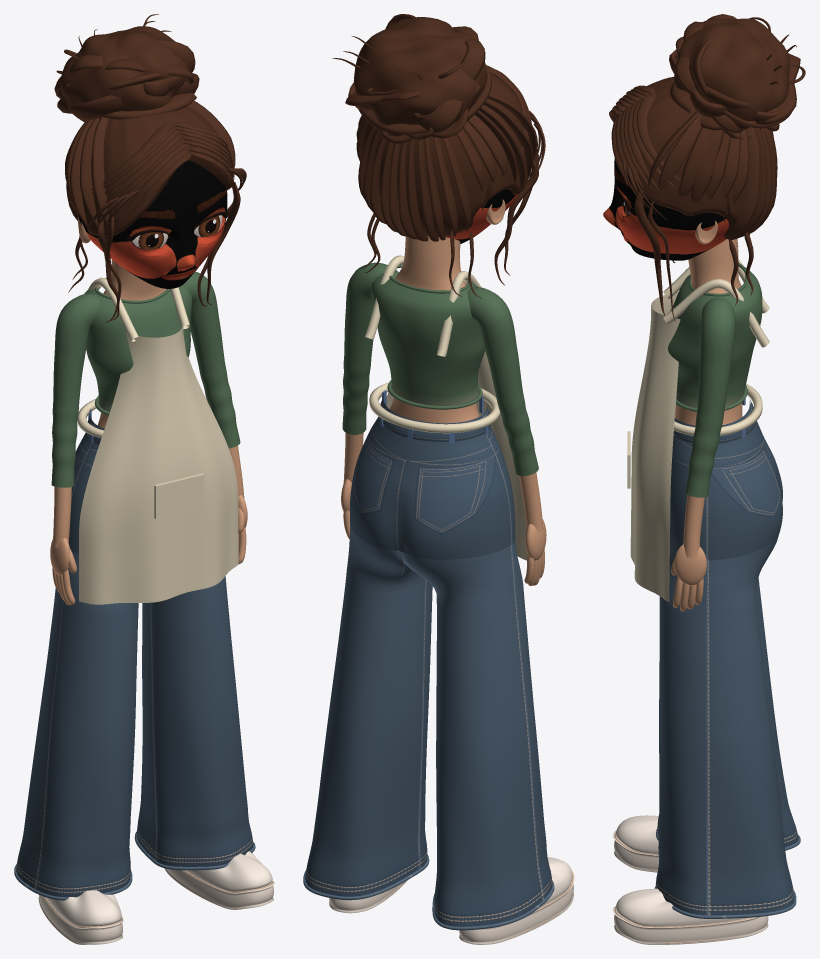
File: mara-before.glb
3 renders of one model, left to right at view 1: azimuth 30°, elevation 25°; view 2: azimuth 150°, elevation 25°; view 3: azimuth 270°, elevation 25°, orthographic. The views are drawn at different scales.
Parts seen in each view (by area): view 1: Mara, Mara fitted apron, Maya hair, Maya face; view 2: Mara, Maya hair, Mara fitted apron, Maya face; view 3: Mara, Maya hair, Mara fitted apron, Maya face.
Boxes of the visible parts, x1,y1,x2,y2 form: Mara: (14,209,274,944); Mara fitted apron: (79,326,238,604); Maya hair: (54,14,246,322); Maya face: (78,160,227,288); Mara: (303,199,574,944); Maya hair: (332,14,545,298); Mara fitted apron: (386,281,527,560); Maya face: (445,189,518,243); Mara: (613,186,800,944); Maya hair: (609,14,805,321); Mara fitted apron: (630,292,680,601); Maya face: (603,158,728,260).
Size of the model in its own units: 0.465 by 1.78 by 0.3739.
53 materials, 16 textured.
